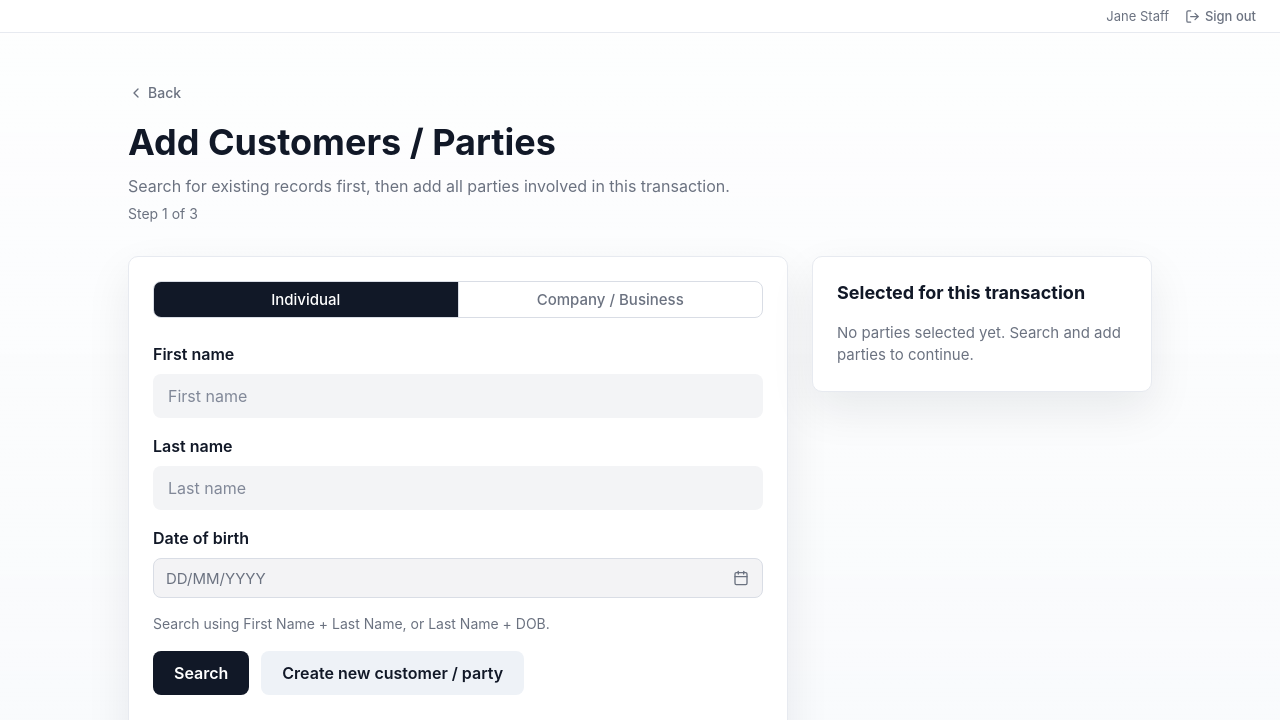
it: CustomerSearchPage › clicking a search result adds the party to the selected parties panel
Type "Sarah" into the field labelled "First name" at (458, 396), box left=153, top=374, right=763, bottom=418
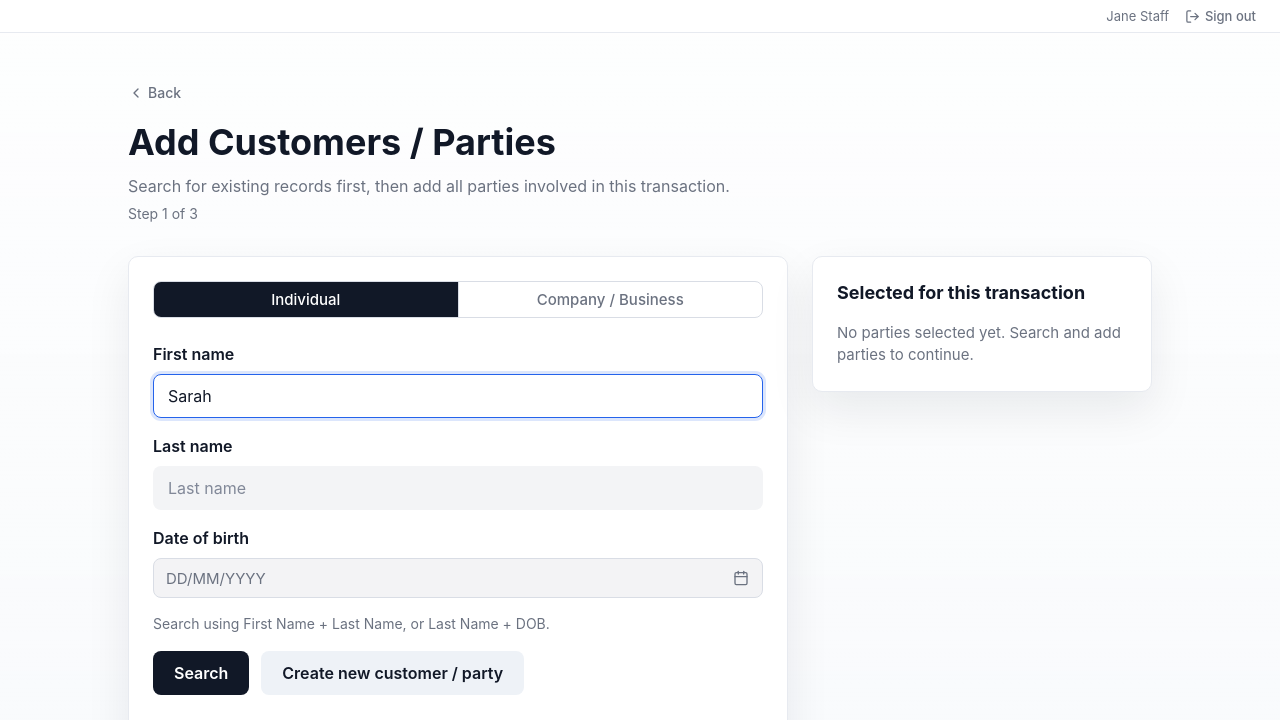
Type "Johnson" into the field labelled "Last name" at (458, 488), box left=153, top=466, right=763, bottom=510
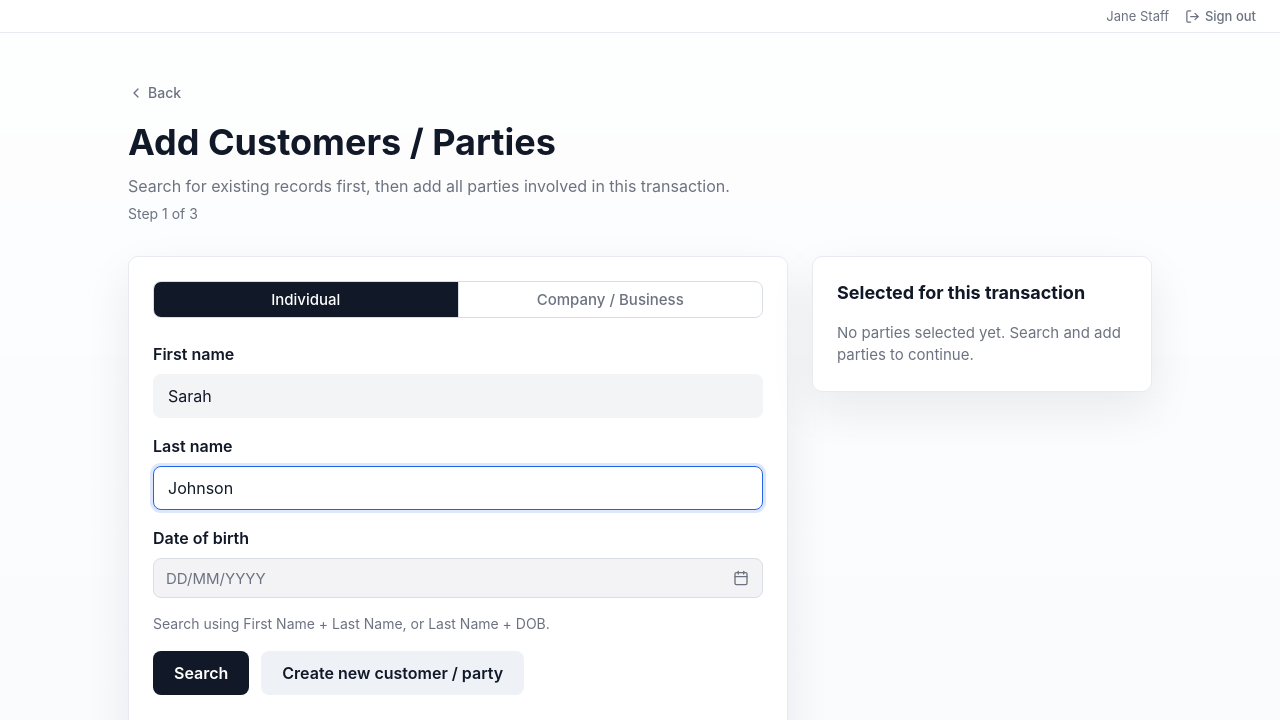
Type "15/06/1985" into the field labelled "Date of birth" at (458, 578), box left=153, top=558, right=763, bottom=598
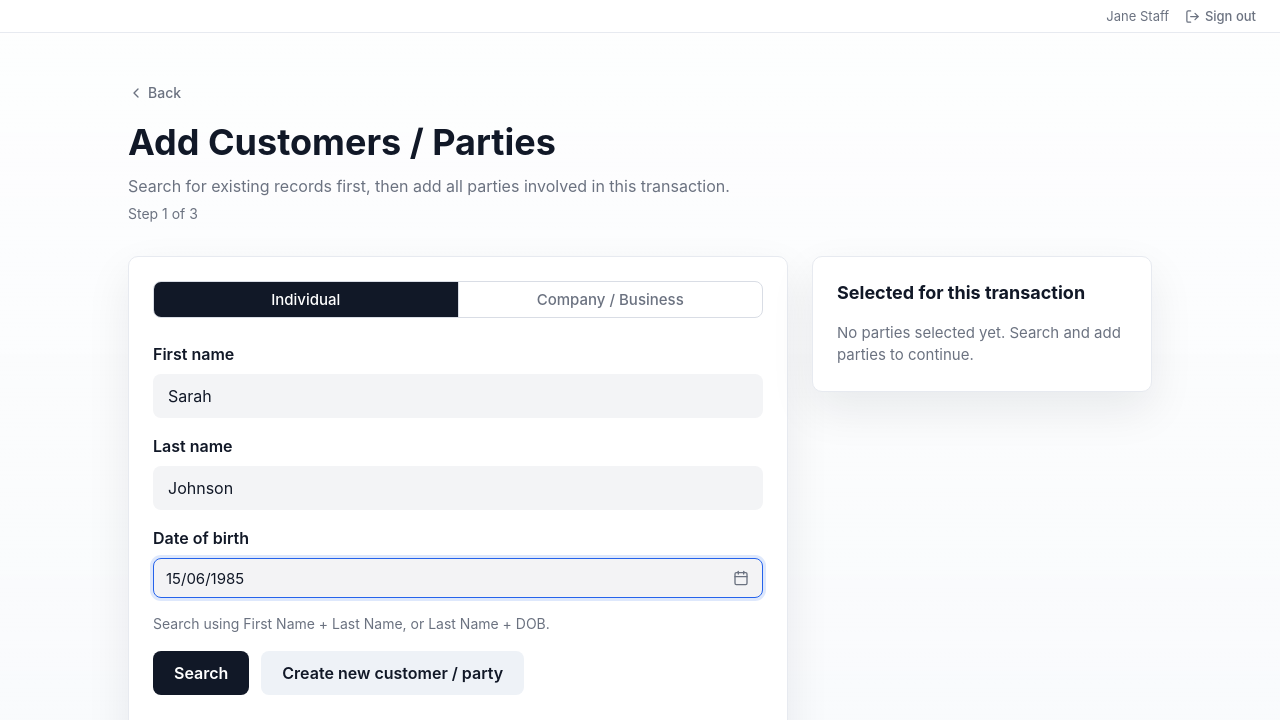
Click the button "Search" at (201, 673), box left=153, top=651, right=249, bottom=695
(page scrolled)
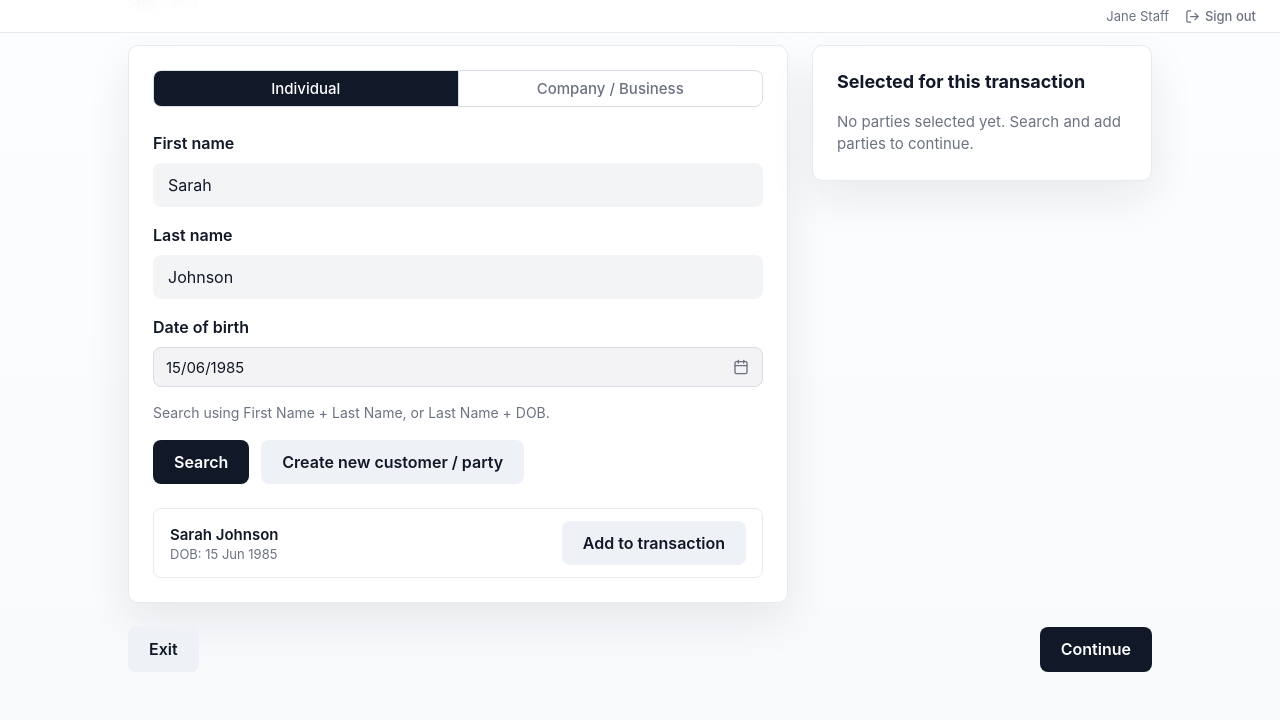
Click the button "Add to transaction" at (654, 543), box left=562, top=521, right=746, bottom=565
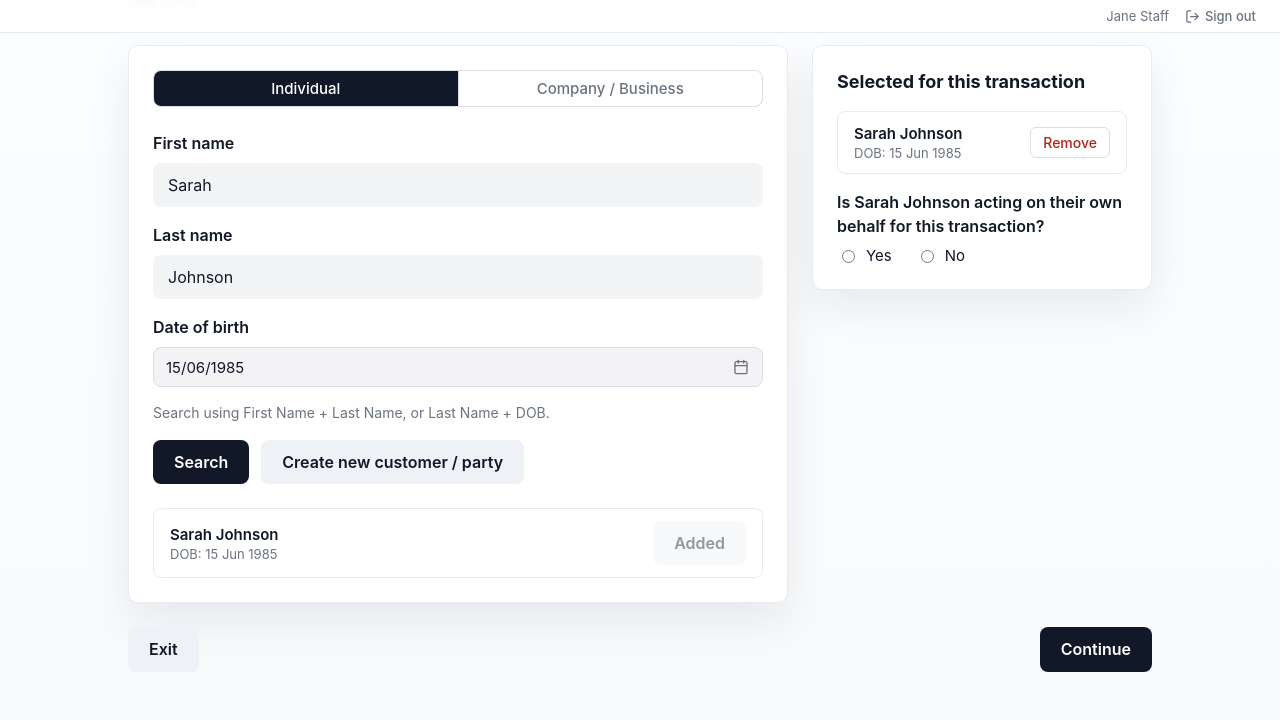
Expected: the text "Selected for this transaction" is shown, left=837, top=71, right=1085, bottom=92
Expected: the text "Sarah Johnson" below "Date of birth" is shown, left=170, top=525, right=278, bottom=544
Expected: the button "Added" is disabled, left=653, top=521, right=746, bottom=565
